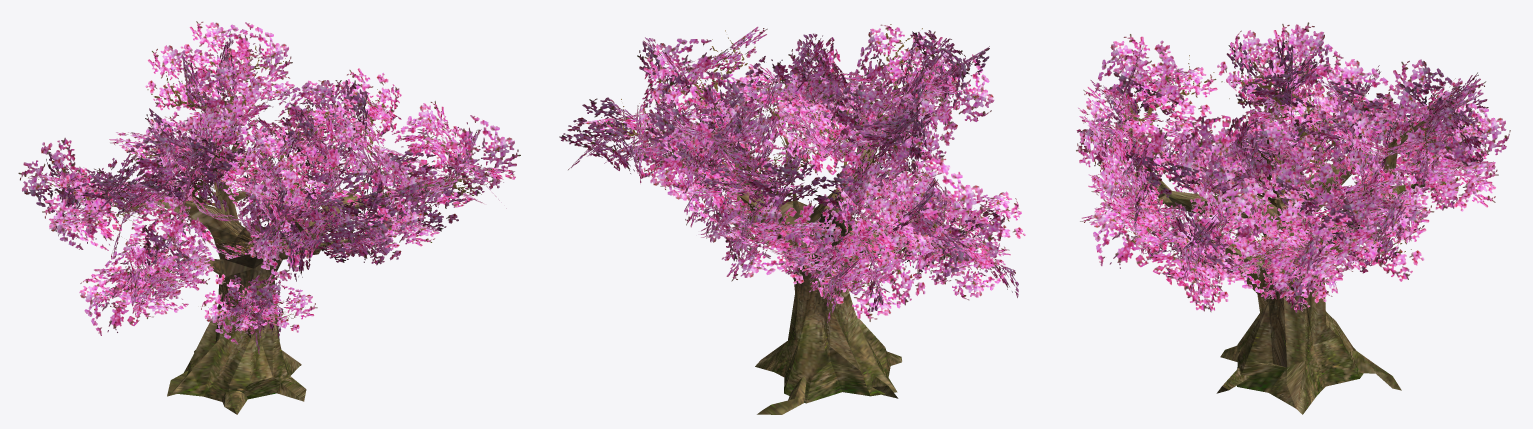
Rendered from xsc_sw_taoshu12b.FBX.
The picture shows the model from 3 angles, left to right: view 1: azimuth 30°, elevation 25°; view 2: azimuth 150°, elevation 25°; view 3: azimuth 270°, elevation 25°; orthographic projection. The views are drawn at different scales.
Visible parts, largest first — view 1: xsc_sw_taoshu12b_B, xsc_sw_taoshu12b_A, xsc_sw_taoshu12b_B01; view 2: xsc_sw_taoshu12b_B, xsc_sw_taoshu12b_A, xsc_sw_taoshu12b_B01; view 3: xsc_sw_taoshu12b_B, xsc_sw_taoshu12b_A, xsc_sw_taoshu12b_B01.
Boxes of the visible parts, x1,y1,x2,y2 form: xsc_sw_taoshu12b_B: (18, 21, 520, 354); xsc_sw_taoshu12b_A: (111, 89, 475, 414); xsc_sw_taoshu12b_B01: (28, 45, 501, 322); xsc_sw_taoshu12b_B: (559, 24, 1025, 322); xsc_sw_taoshu12b_A: (698, 90, 951, 414); xsc_sw_taoshu12b_B01: (601, 24, 1018, 291); xsc_sw_taoshu12b_B: (1076, 22, 1510, 312); xsc_sw_taoshu12b_A: (1129, 112, 1435, 414); xsc_sw_taoshu12b_B01: (1085, 55, 1488, 267).
Size of the model in its own units: 2505 by 1724 by 2127.
